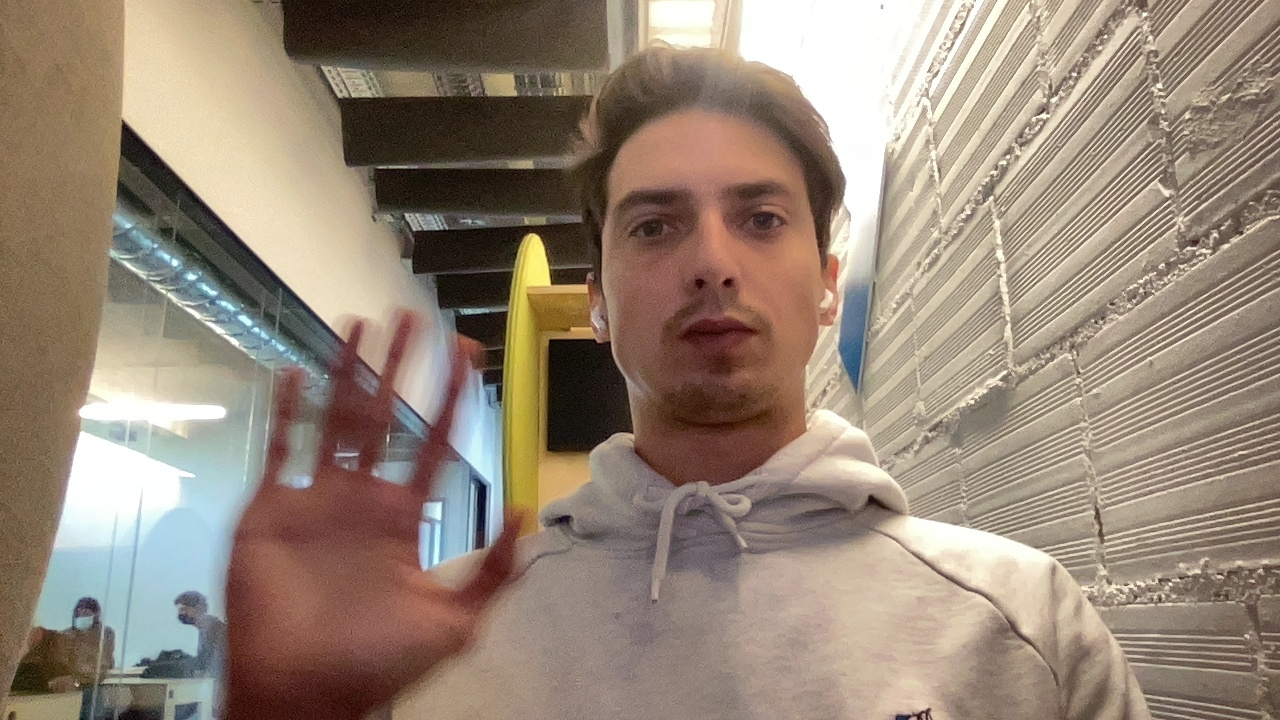Hello: (201, 272, 524, 701)
